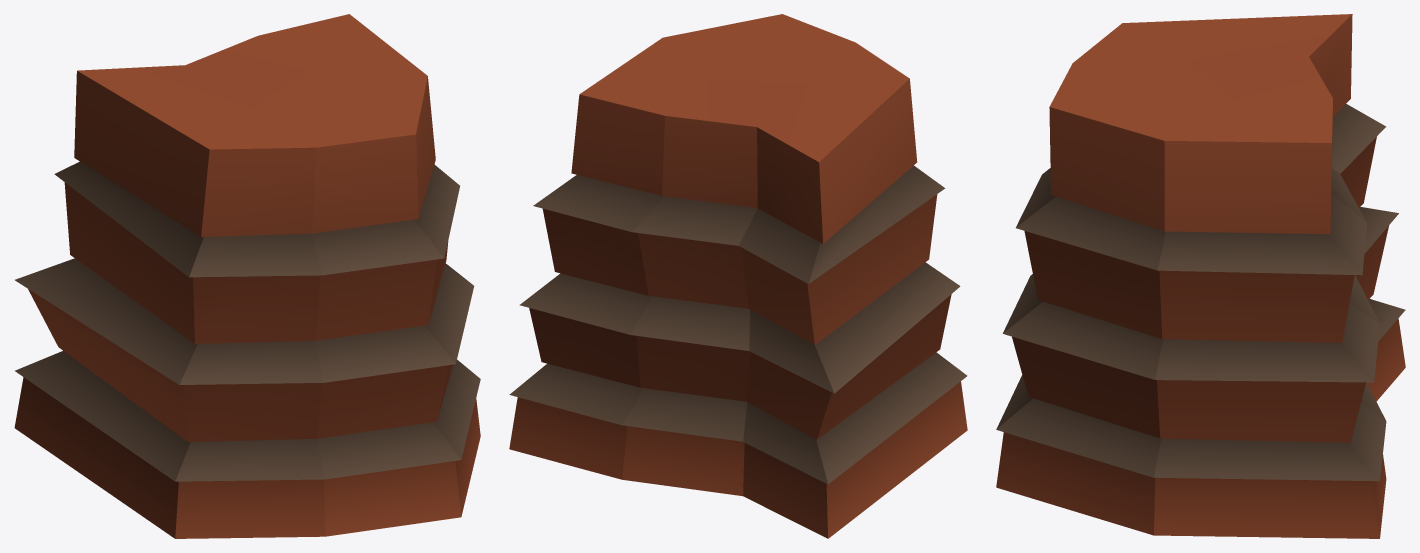
File: wall.glb
3 renders of one model, left to right at view 1: azimuth 30°, elevation 25°; view 2: azimuth 150°, elevation 25°; view 3: azimuth 270°, elevation 25°, orthographic. The views are drawn at different scales.
Visible parts, largest first — view 1: hard, soft; view 2: hard, soft; view 3: hard, soft.
Boxes of the visible parts, x1,y1,x2,y2 form: hard: (14,14,480,538); soft: (15,161,480,481); hard: (509,14,967,538); soft: (509,165,967,484); hard: (996,14,1405,538); soft: (996,104,1405,481).
Bounding box in the file's own units: 1 × 1 × 1.
